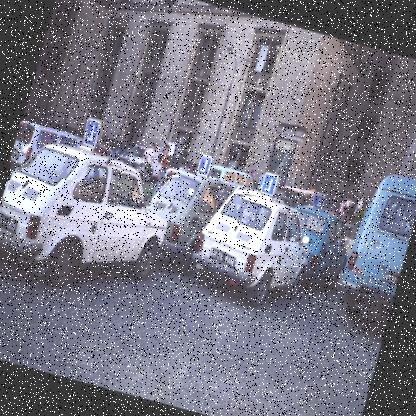Car: (0, 132, 181, 306), (190, 177, 320, 309), (132, 164, 245, 275), (274, 201, 355, 295), (6, 119, 94, 184), (118, 142, 163, 187), (204, 161, 258, 198)
